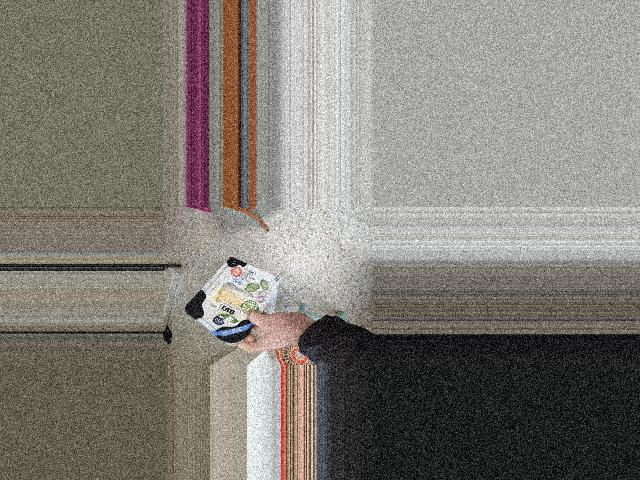cheese: (187, 248, 273, 347)
